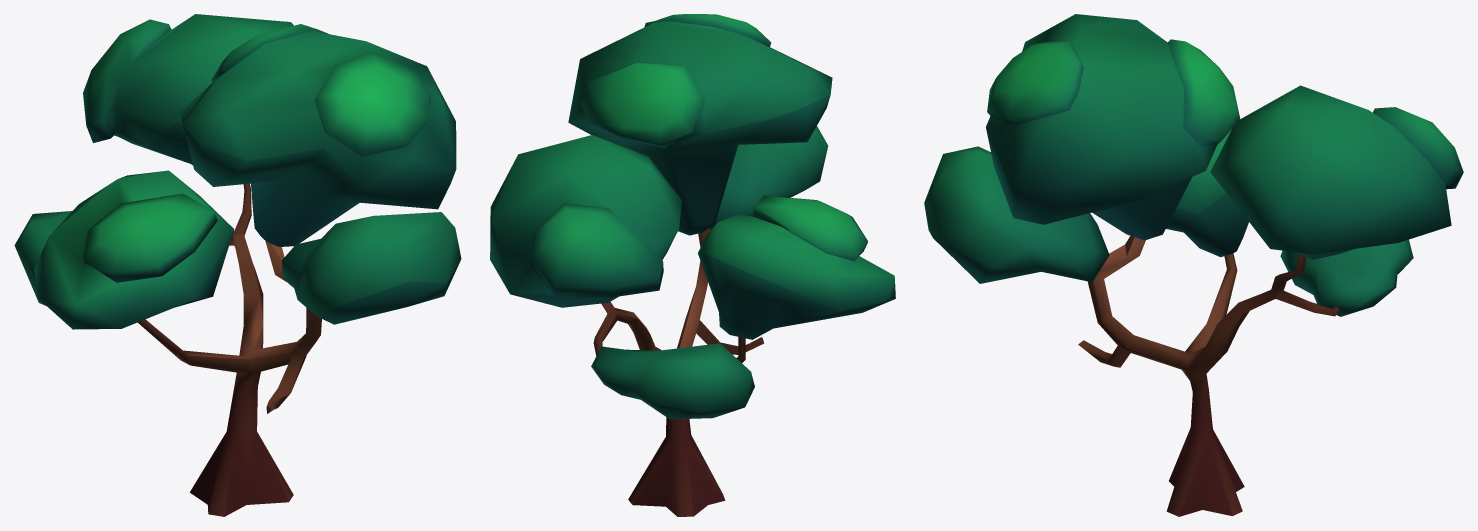
The model's file is Tree_2H.fbx.
3 renders of one model, left to right at view 1: azimuth 30°, elevation 25°; view 2: azimuth 150°, elevation 25°; view 3: azimuth 270°, elevation 25°, orthographic. The views are drawn at different scales.
Parts seen in each view (by area): view 1: Tree_2H; view 2: Tree_2H; view 3: Tree_2H.
Part boxes in pixels (bbox=[...]): Tree_2H: bbox=[14, 14, 461, 516]; Tree_2H: bbox=[490, 14, 895, 516]; Tree_2H: bbox=[924, 14, 1463, 516].
Bounding box in the file's own units: 9.04 × 11.19 × 11.68.
